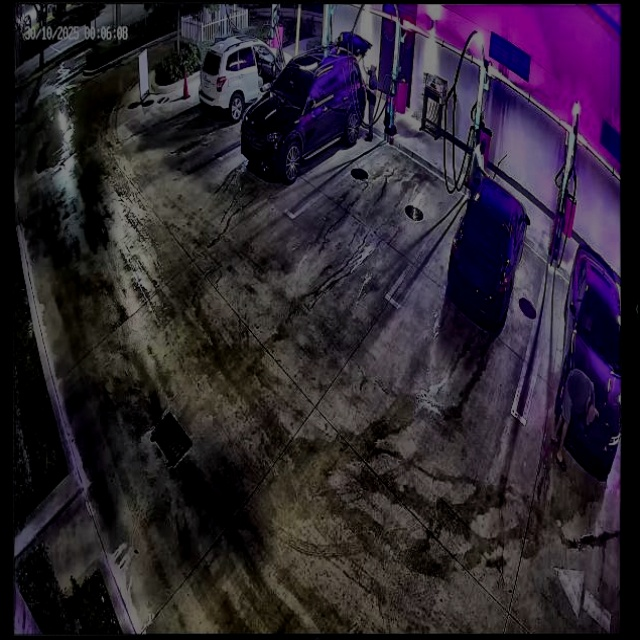Car: (242, 33, 370, 178), (448, 171, 530, 328)
